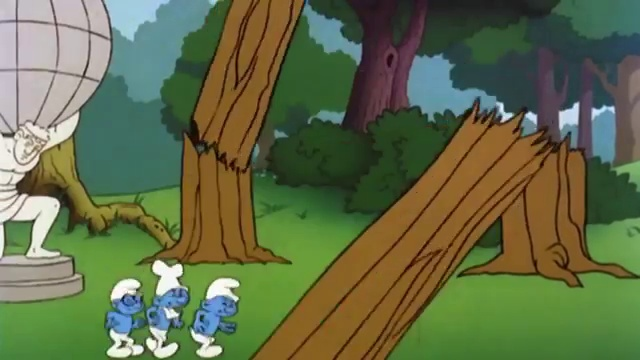smurf: (189, 275, 246, 358), (148, 257, 189, 359), (98, 278, 148, 360)
